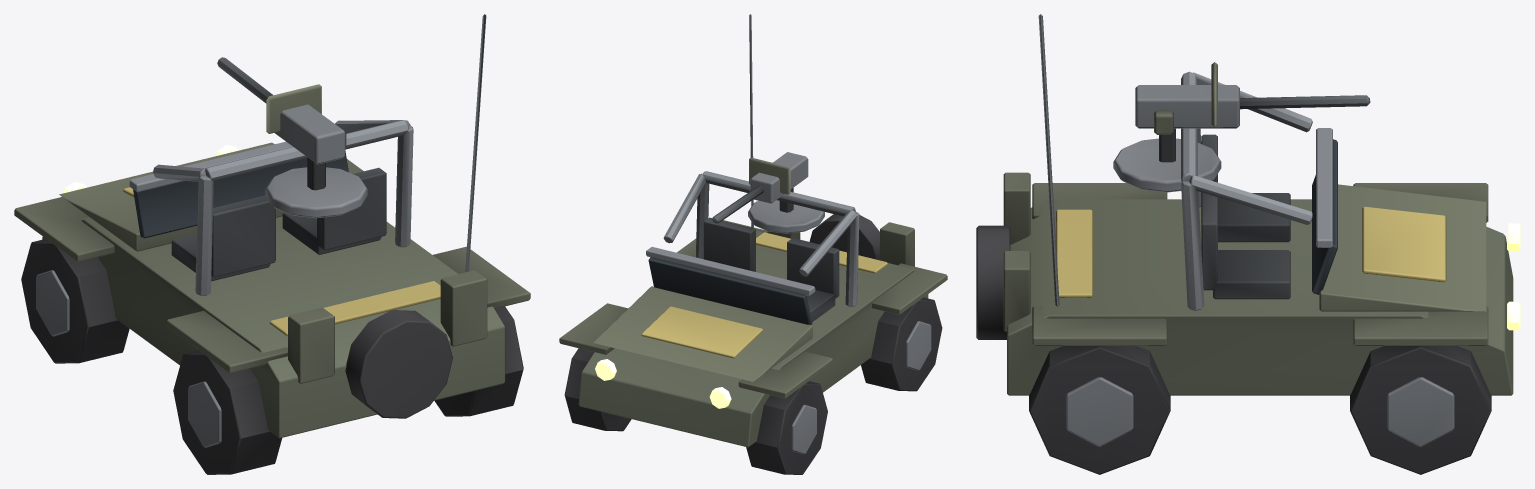
The model's file is scout_vehicle.glb.
3 views of the same model, side by side, from view 1: azimuth 30°, elevation 25°; view 2: azimuth 150°, elevation 25°; view 3: azimuth 270°, elevation 25° (orthographic). The views are drawn at different scales.
Visible parts, largest first — view 1: Body, Turret; view 2: Body, Turret; view 3: Body, Turret.
Boxes of the visible parts, <box> form: Body: <box>14,14,530,474</box>; Turret: <box>217,57,367,218</box>; Body: <box>559,14,947,474</box>; Turret: <box>712,152,824,233</box>; Body: <box>976,14,1520,474</box>; Turret: <box>1113,62,1370,192</box>.
Size of the model in its own units: 2.18 by 2.9 by 3.22.
